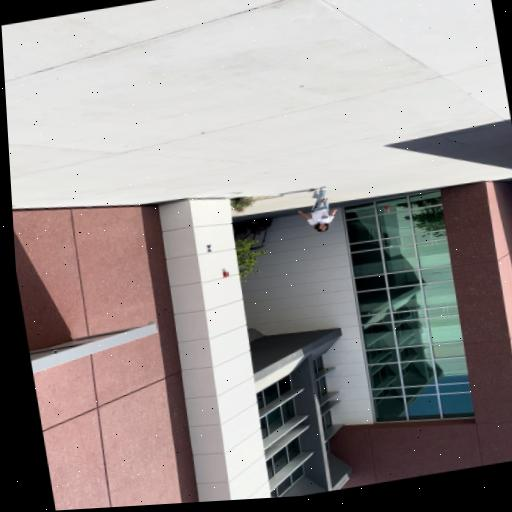target6: (205, 244, 213, 253)
